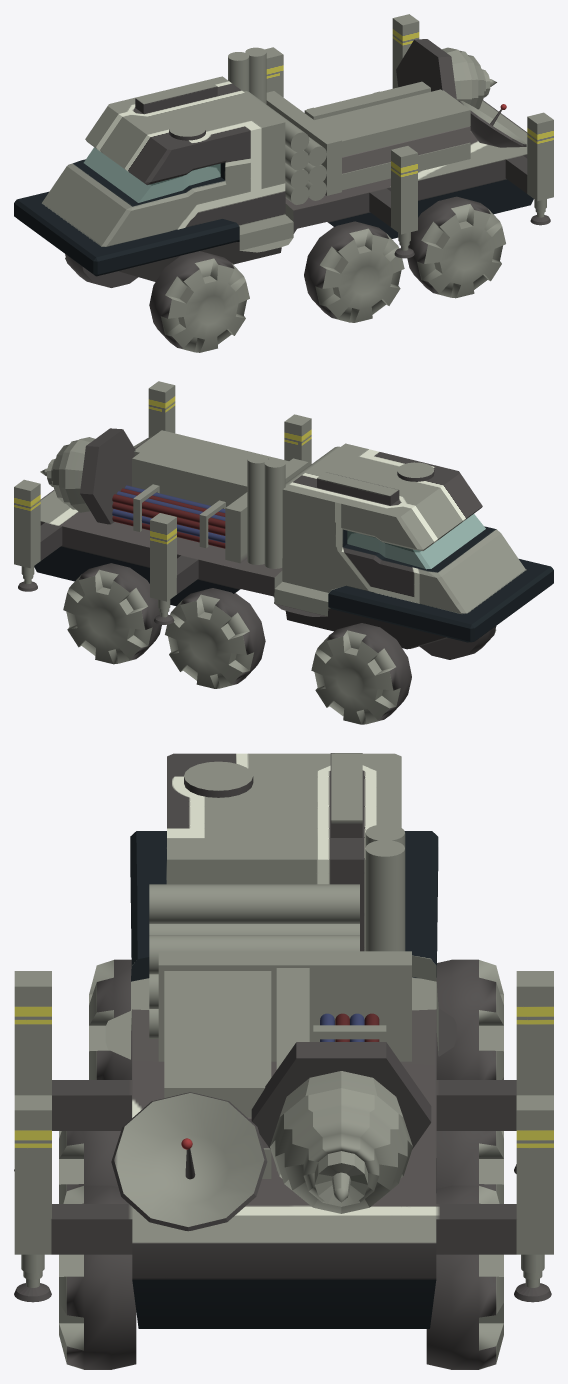
Rendered from rover.fbx.
The picture shows the model from 3 angles, top to bottom: view 1: azimuth 30°, elevation 25°; view 2: azimuth 150°, elevation 25°; view 3: azimuth 270°, elevation 25°; orthographic projection. The views are drawn at different scales.
Parts seen in each view (by area): view 1: vehicals:vehicals:pCylinder67; view 2: vehicals:vehicals:pCylinder67; view 3: vehicals:vehicals:pCylinder67.
Part boxes in pixels (x1,y1,x2,y2): vehicals:vehicals:pCylinder67: (14, 14, 553, 352); vehicals:vehicals:pCylinder67: (14, 381, 553, 724); vehicals:vehicals:pCylinder67: (14, 753, 553, 1369).
Size of the model in its own units: 14.58 by 6.5 by 7.96.
